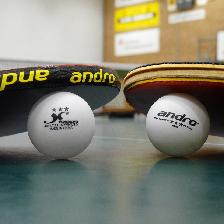WhiteBall: (27, 90, 94, 159), (145, 92, 210, 156)
